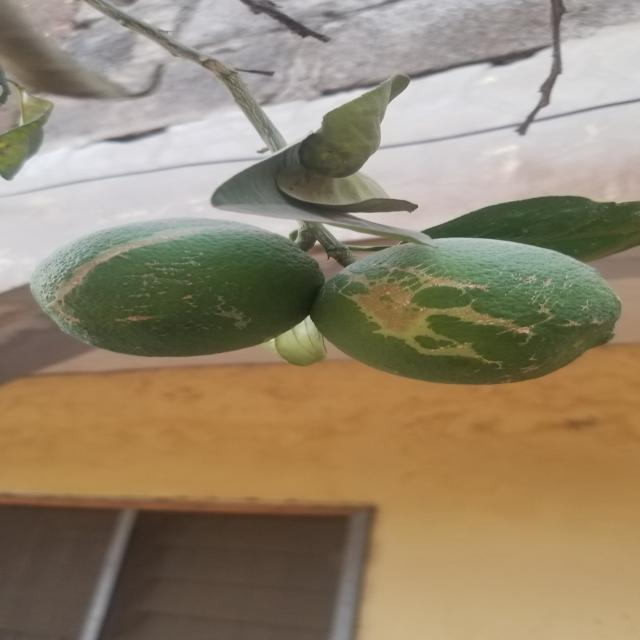Unripe: (310, 240, 601, 382), (33, 214, 323, 356)
